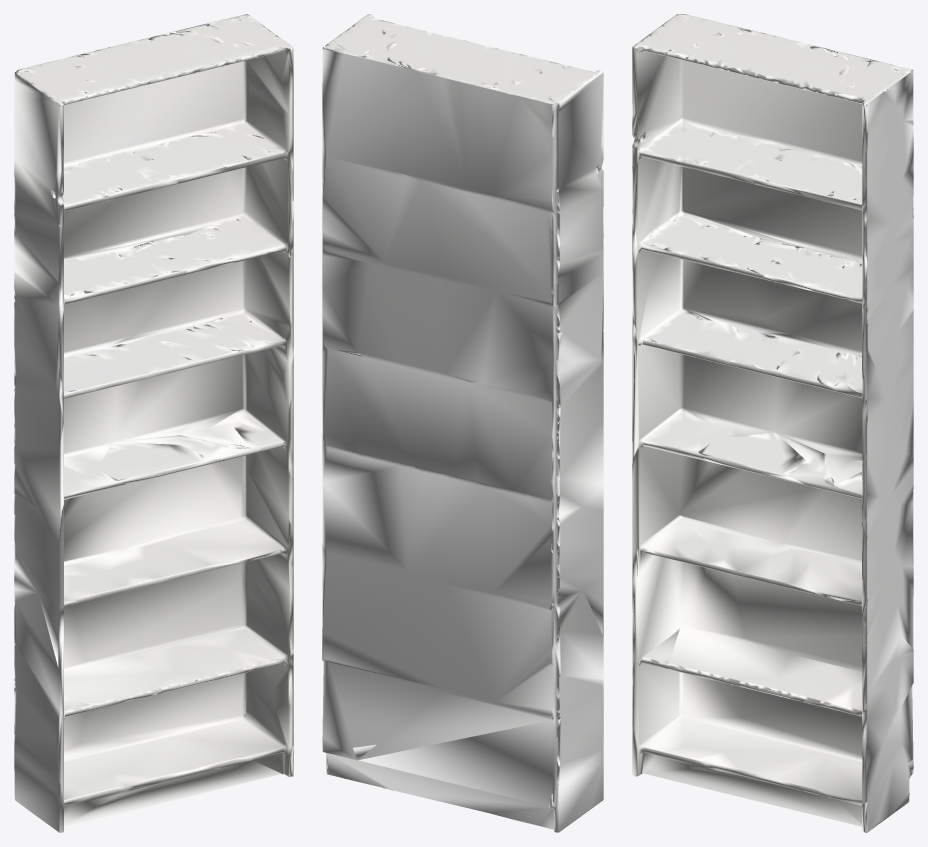
The model's file is meshy-ikea-59638673.glb.
3 views of the same model, side by side, from view 1: azimuth 30°, elevation 25°; view 2: azimuth 150°, elevation 25°; view 3: azimuth 330°, elevation 25° (orthographic).
Parts seen in each view (by area): view 1: Exact catalog scale: ikea-59638673; view 2: Exact catalog scale: ikea-59638673; view 3: Exact catalog scale: ikea-59638673.
Boxes of the visible parts, bbox=[...] form: Exact catalog scale: ikea-59638673: bbox=[14, 14, 293, 832]; Exact catalog scale: ikea-59638673: bbox=[322, 14, 603, 832]; Exact catalog scale: ikea-59638673: bbox=[632, 14, 913, 832].
Bounding box in the file's own units: 0.8 × 2.37 × 0.279.
Materials: 1 (1 with a texture image).
